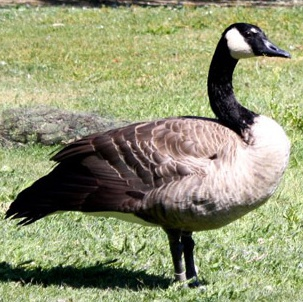goose: (6, 20, 298, 291)
